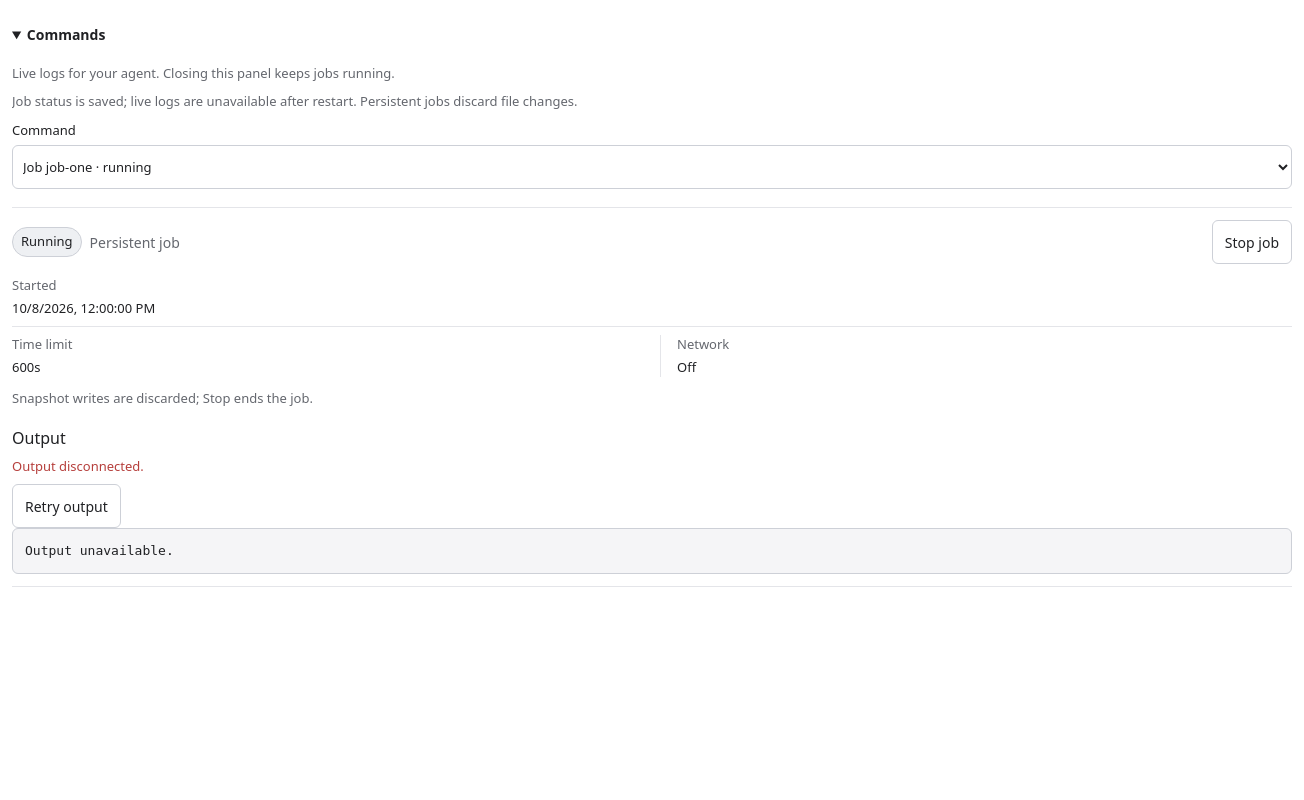
it: NativeCommandJobs › rechecks generation before retrying output and refuses a superseded job
Click the button "Retry output": (66, 506) [12,484,121,528]
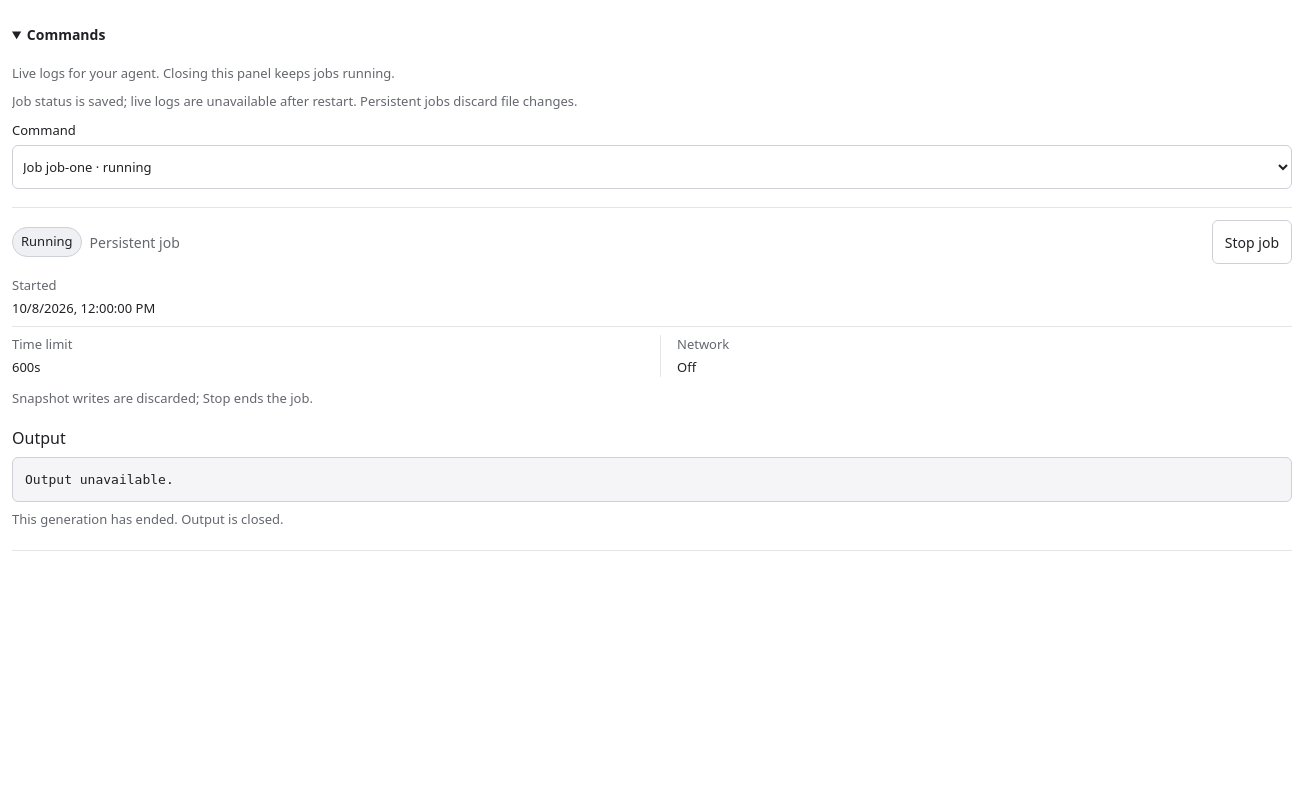
Expected: the text "This generation has ended. Output is closed." is shown, [12,510,284,528]
